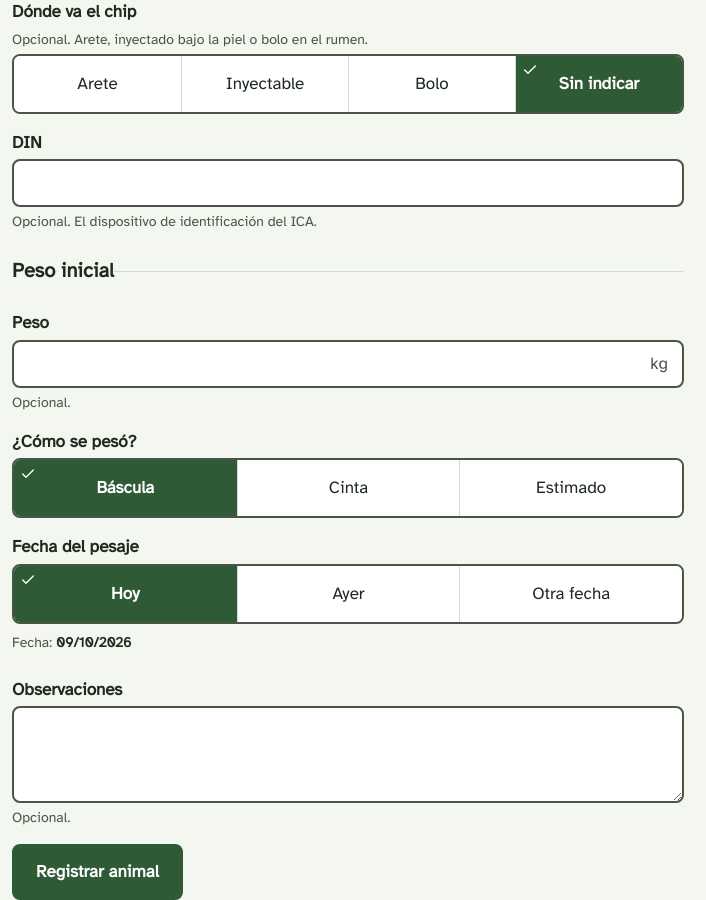
it: AnimalForm: alta (ANI-01) › valida con el esquema de shared antes de enviar: nada viaja con errores
(page scrolled)
What coordinates should you click on to do the following:
click the button "Registrar animal"
I would click on:
 (97, 872)
Its box is [12,844,183,899].
(page scrolled)
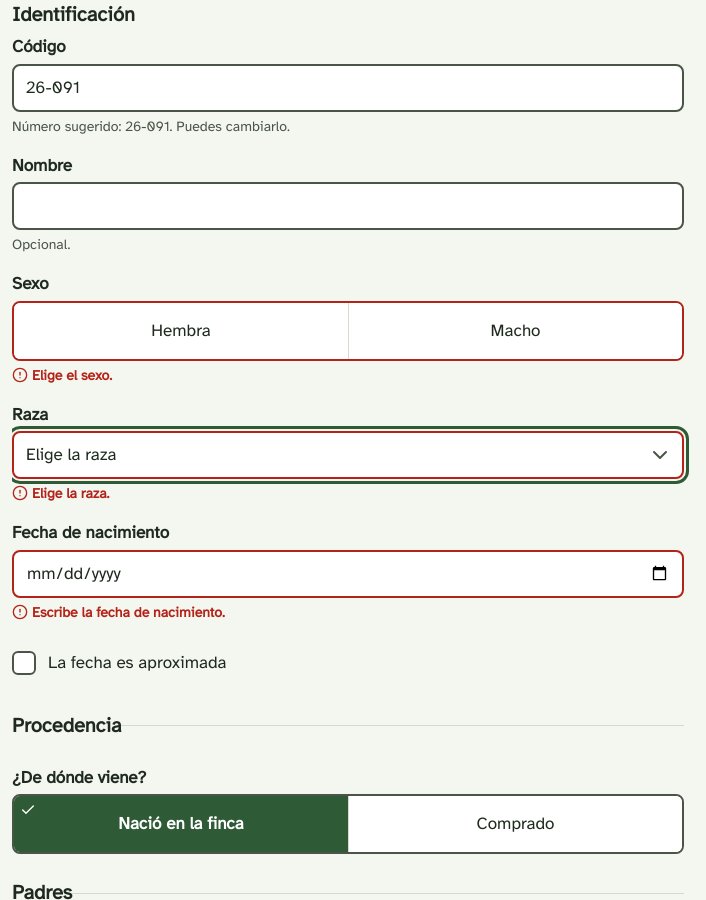
Expected: the text "Elige el sexo." is shown, [12,366,112,384]
Expected: the text "Elige la raza." is shown, [12,485,109,502]
Expected: the text "Escribe la fecha de nacimiento." is shown, [12,604,225,620]
